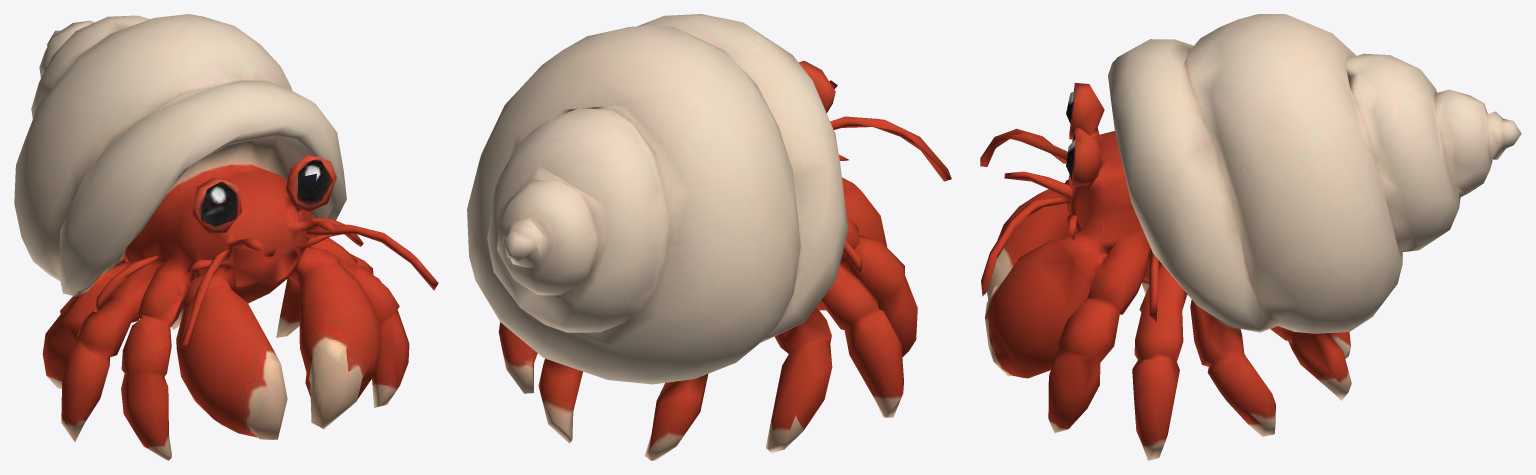
File: hermitcrab.glb
3 views of the same model, side by side, from view 1: azimuth 30°, elevation 25°; view 2: azimuth 150°, elevation 25°; view 3: azimuth 270°, elevation 25° (orthographic). The views are drawn at different scales.
Visible parts, largest first — view 1: model; view 2: model; view 3: model.
Boxes of the visible parts, x1,y1,x2,y2 form: model: (14, 14, 438, 460); model: (467, 14, 951, 460); model: (980, 14, 1521, 460).
Bounding box in the file's own units: 1.42 × 1.39 × 1.91.
Materials: 1 (1 with a texture image).
